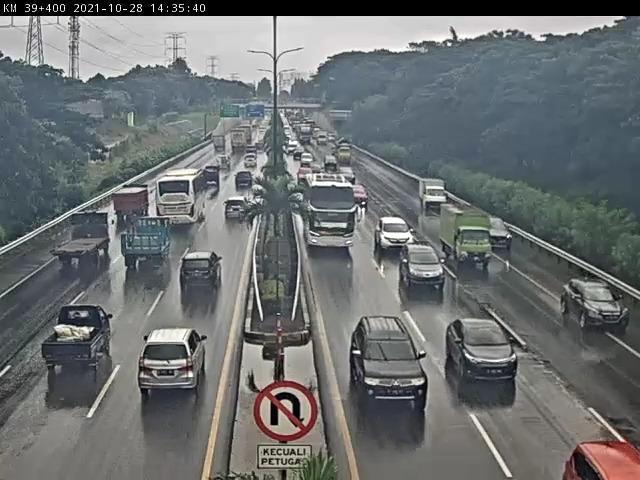Bus: (304, 175, 357, 247), (154, 168, 207, 225)
